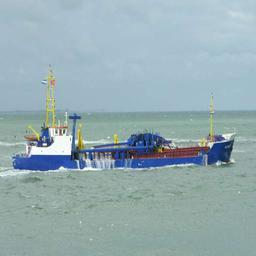Ship: (11, 90, 236, 173)
